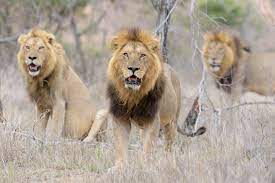lion: (99, 30, 180, 157), (9, 28, 86, 148), (196, 30, 263, 97)
